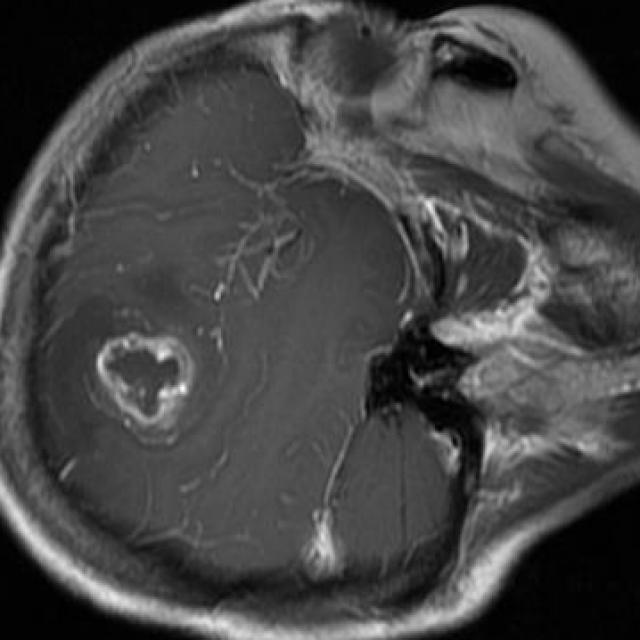glioma: (96, 332, 196, 447)
